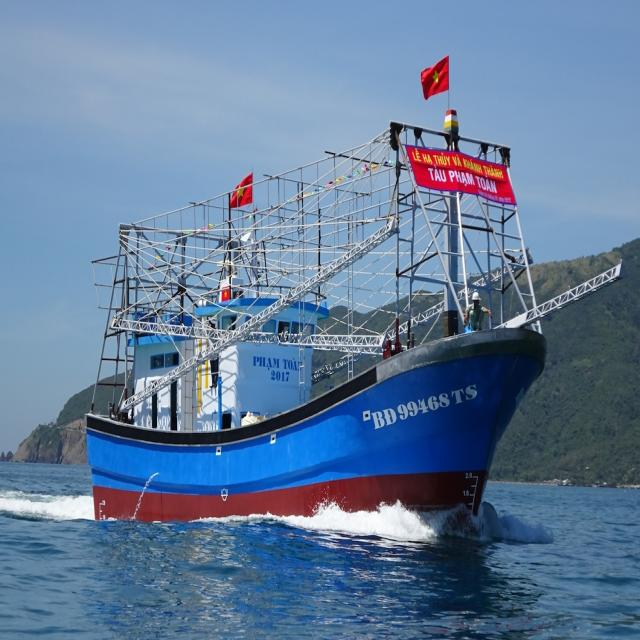boat: (69, 64, 585, 596)
